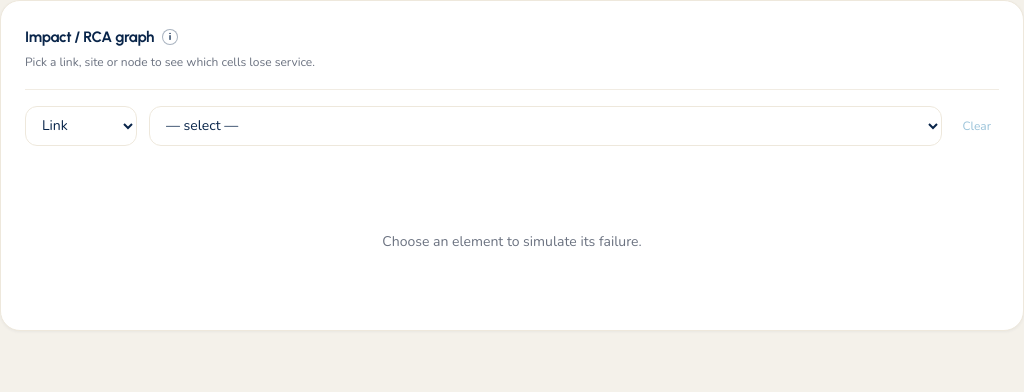
Scenario: RcaGraph (Step 14) › switches to sites and nodes and sends the right parameter
Select "Node" in the dropdown named "Failure type": point(81, 126) top-left (25, 106), bottom-right (137, 146)
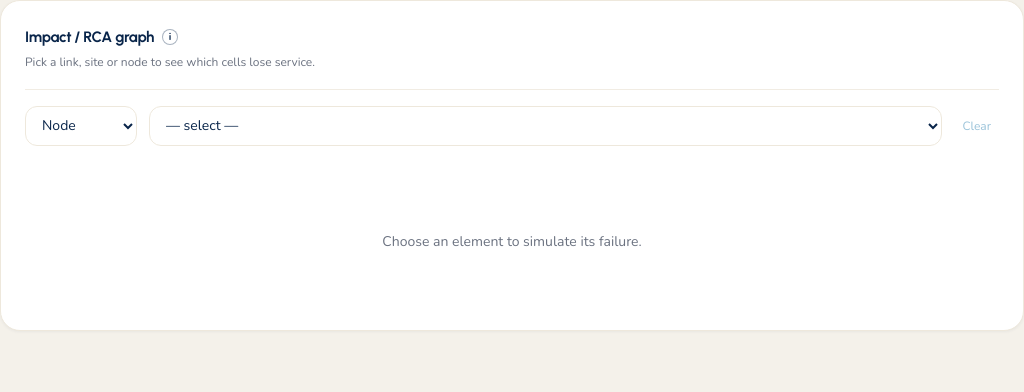
Select "SITE-004-N1 (gnb)" in the dropdown named "Failed element": point(546, 126) top-left (149, 106), bottom-right (942, 146)
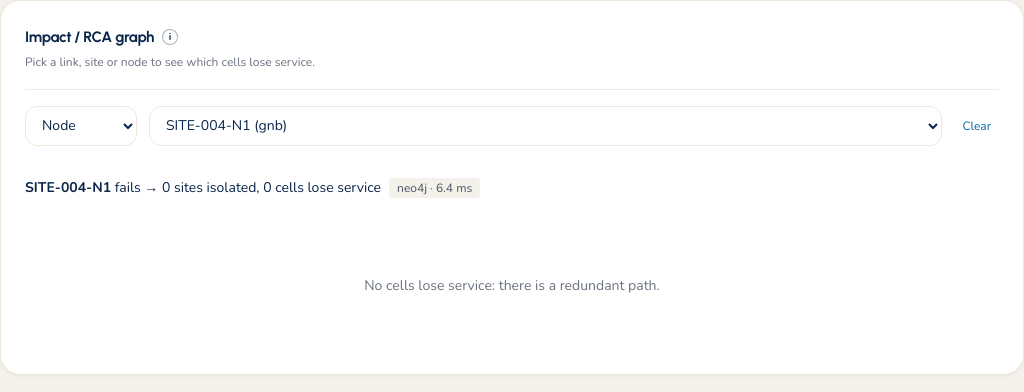
Expected: the text "No cells lose service: there is a redundant path." is shown, top-left (364, 276), bottom-right (660, 295)
